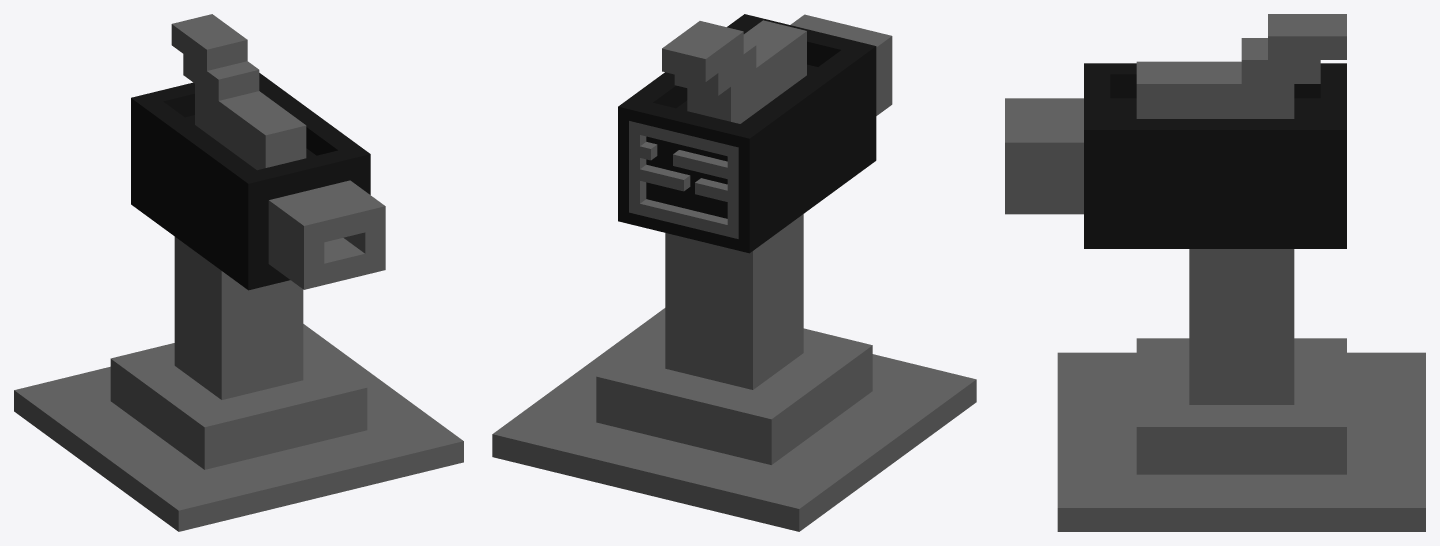
The model's file is PiercingCannon.obj.
3 views of the same model, side by side, from view 1: azimuth 30°, elevation 25°; view 2: azimuth 150°, elevation 25°; view 3: azimuth 270°, elevation 25° (orthographic). The views are drawn at different scales.
Visible parts, largest first — view 1: PiercingCannon; view 2: PiercingCannon; view 3: PiercingCannon.
Part boxes in pixels (left/top/right/bottom): PiercingCannon: left=14, top=14, right=463, bottom=531; PiercingCannon: left=492, top=14, right=976, bottom=531; PiercingCannon: left=1005, top=14, right=1425, bottom=531.
Size of the model in its own units: 2.8 by 3.6 by 3.2.
Materials: 1 (1 with a texture image).
